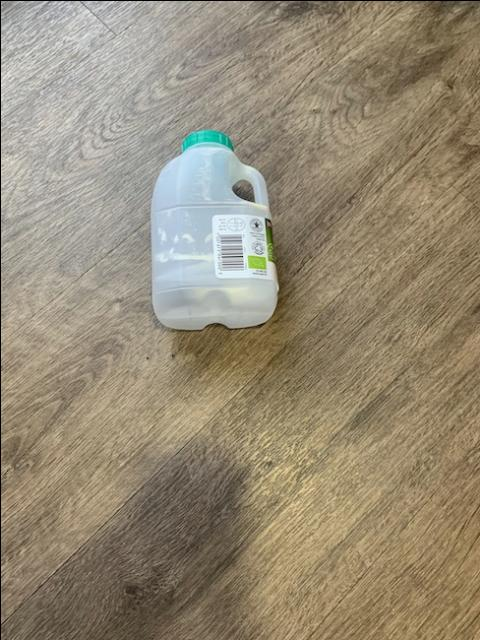plastic: (152, 128, 278, 327)
